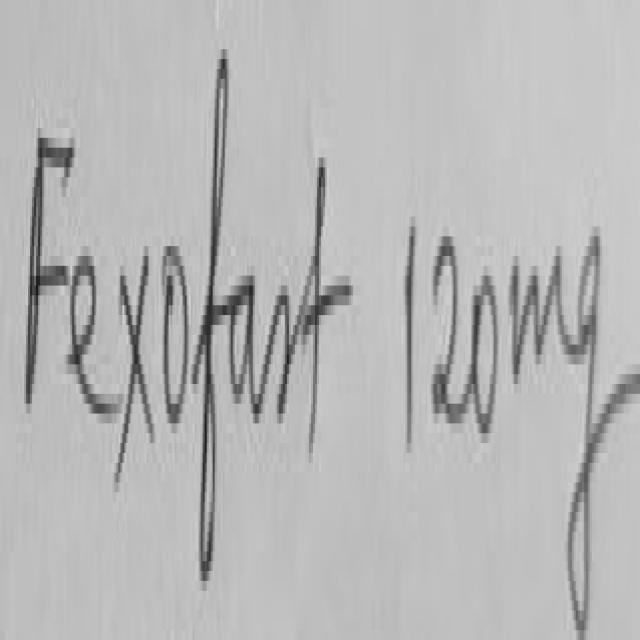0: (473, 276, 500, 428)
1: (407, 226, 414, 448)
2: (433, 228, 473, 427)
F: (26, 138, 71, 399)
a: (231, 276, 257, 419)
e: (68, 256, 118, 409)
f: (193, 49, 229, 576)
g: (566, 224, 603, 622)
m: (514, 256, 580, 379)
o: (165, 246, 189, 418)
s: (261, 295, 291, 418)
t: (305, 158, 335, 448)
x: (114, 256, 154, 478)
